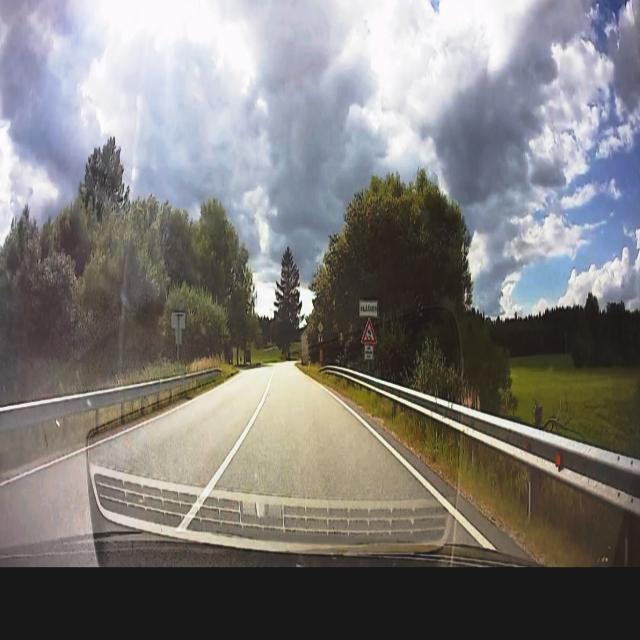Priority road: (317, 320, 324, 332)
